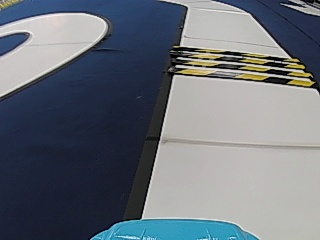bump: (181, 47, 289, 85)
